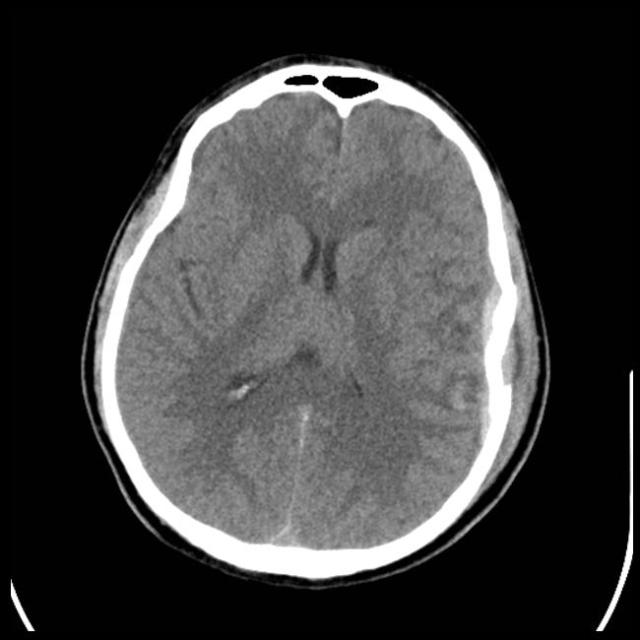lesion: (84, 57, 544, 580)
